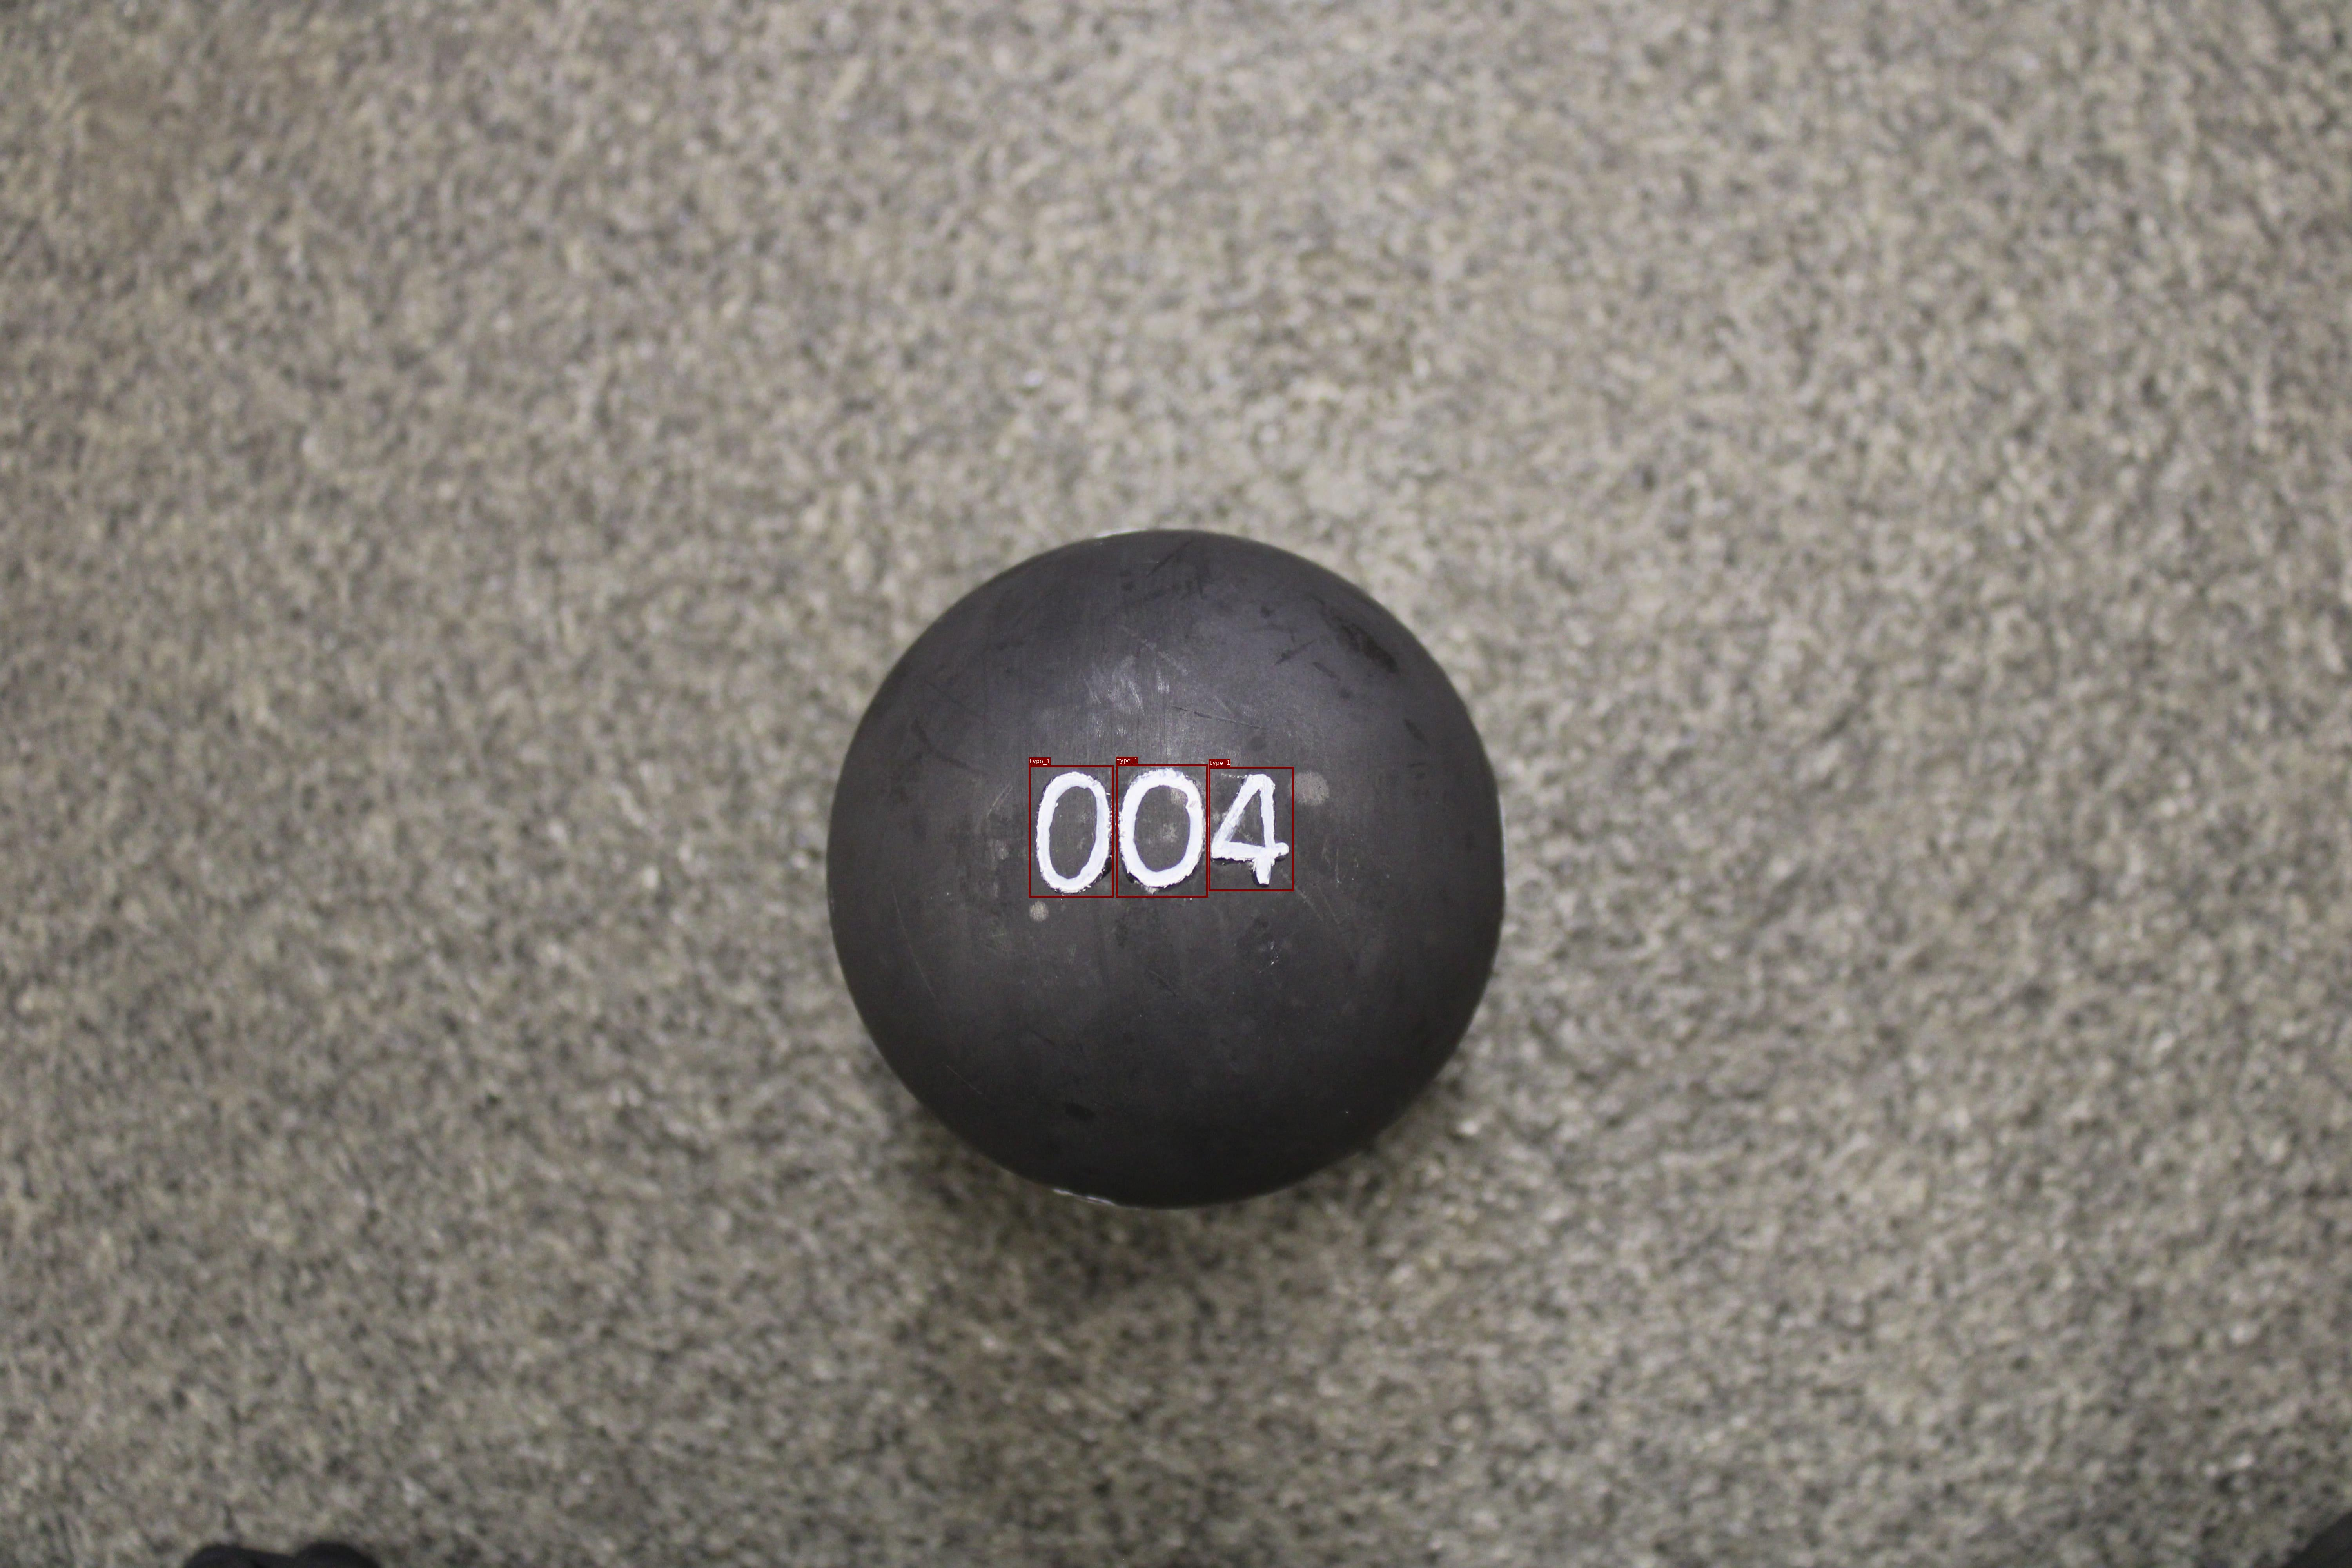type_1: (1116, 765, 1208, 898), (1029, 765, 1113, 898), (1209, 766, 1293, 891)
